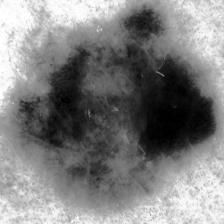Benign Marking or Mole: (9, 2, 217, 205)
